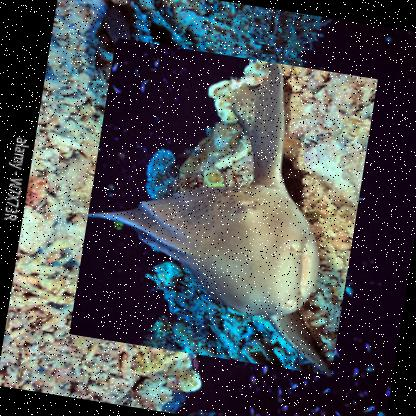zebra_shark: (67, 36, 377, 375)
